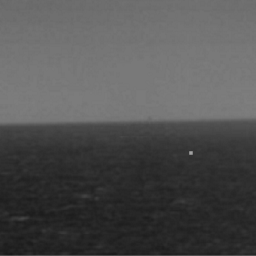Target: (187, 149, 194, 156)
